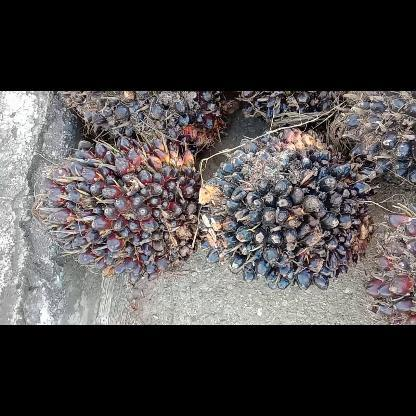TBS mentah: (196, 126, 378, 294), (34, 138, 204, 280), (54, 91, 240, 157), (333, 92, 415, 194), (360, 200, 414, 324), (236, 91, 346, 139)
